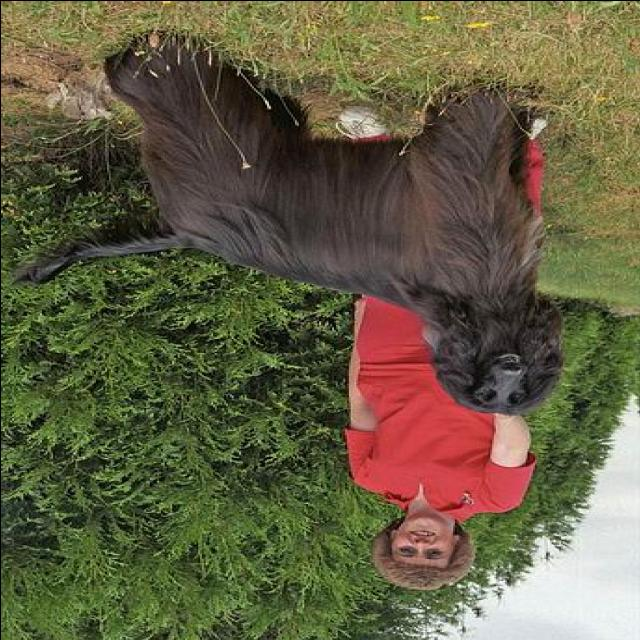afghan_hound: (20, 41, 564, 421)
